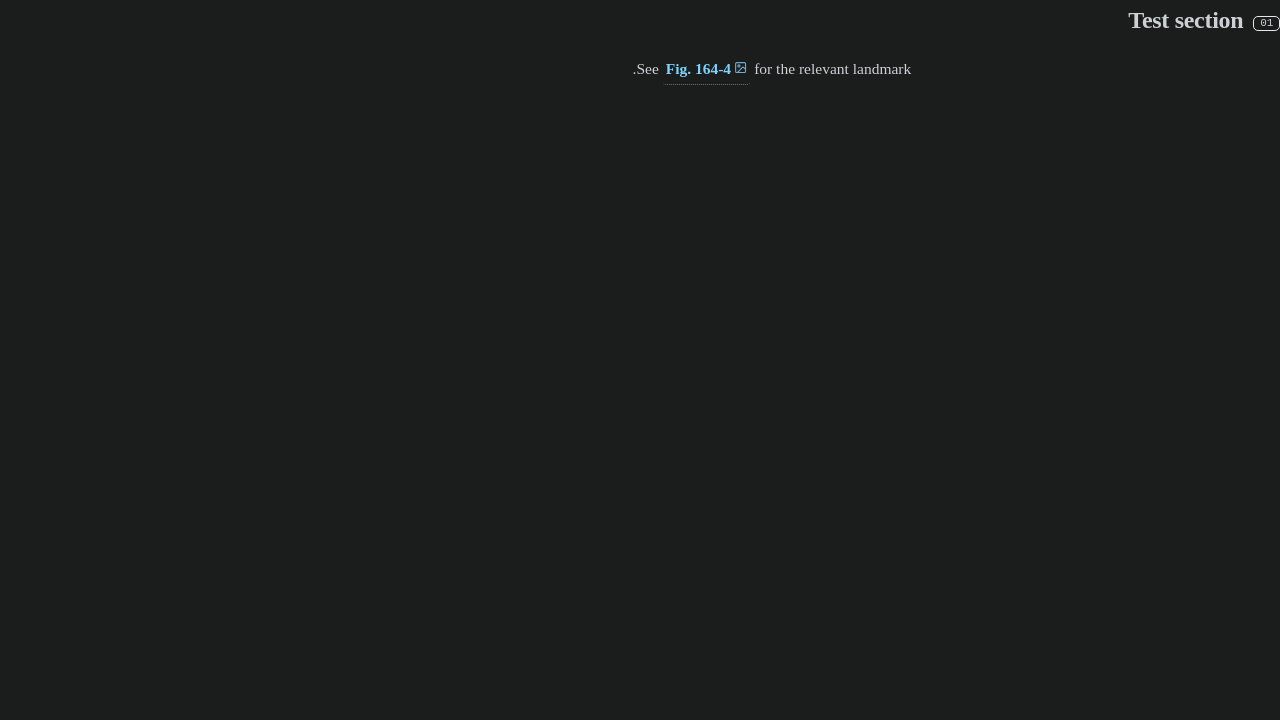
Scenario: Media reader pipeline (Phase 1) › opens the fallback dialog with chapter, segment, label, and 'Image not imported yet' on click
Expected: the text "Image not imported yet" is not shown
Click the button "Fig. 164-4".
click(706, 70)  # box [663,54,750,85]
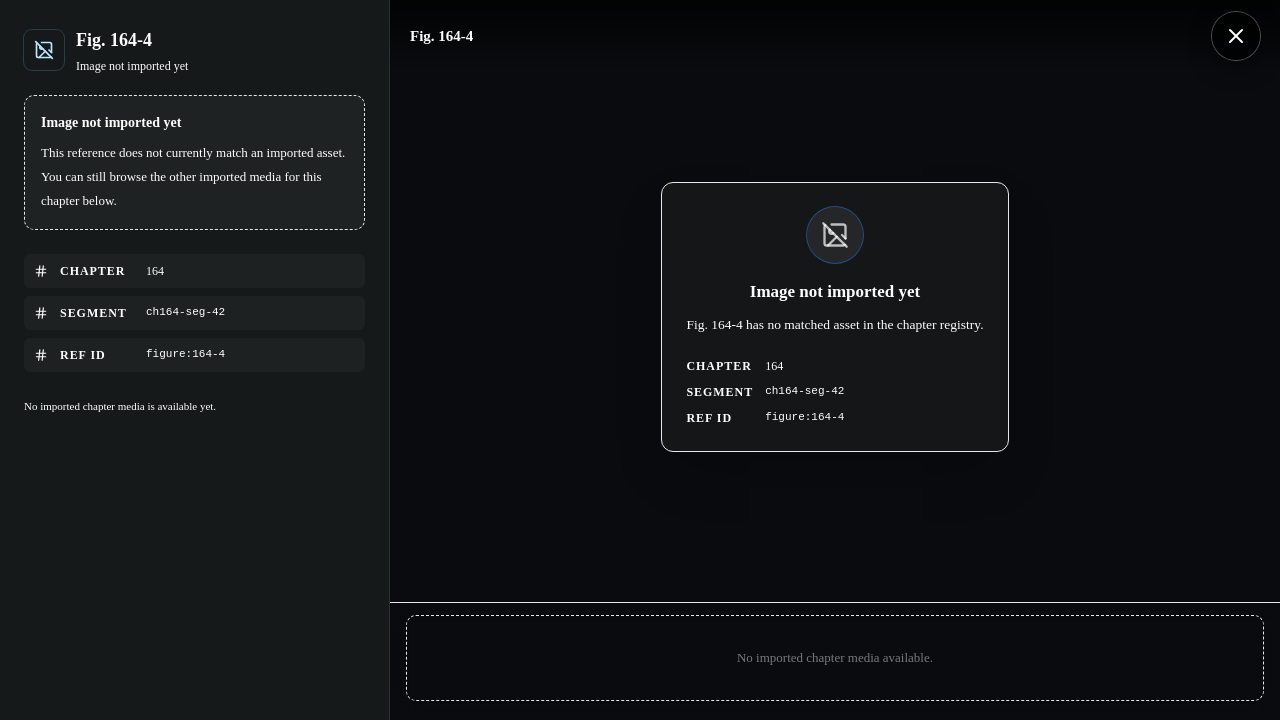
Expected: the text "Image not imported yet" is shown, [76,59,188,73]
Expected: the text "ch164-seg-42" is shown, [146,306,225,318]
Expected: the text "figure:164-4" is shown, [146,348,225,360]
